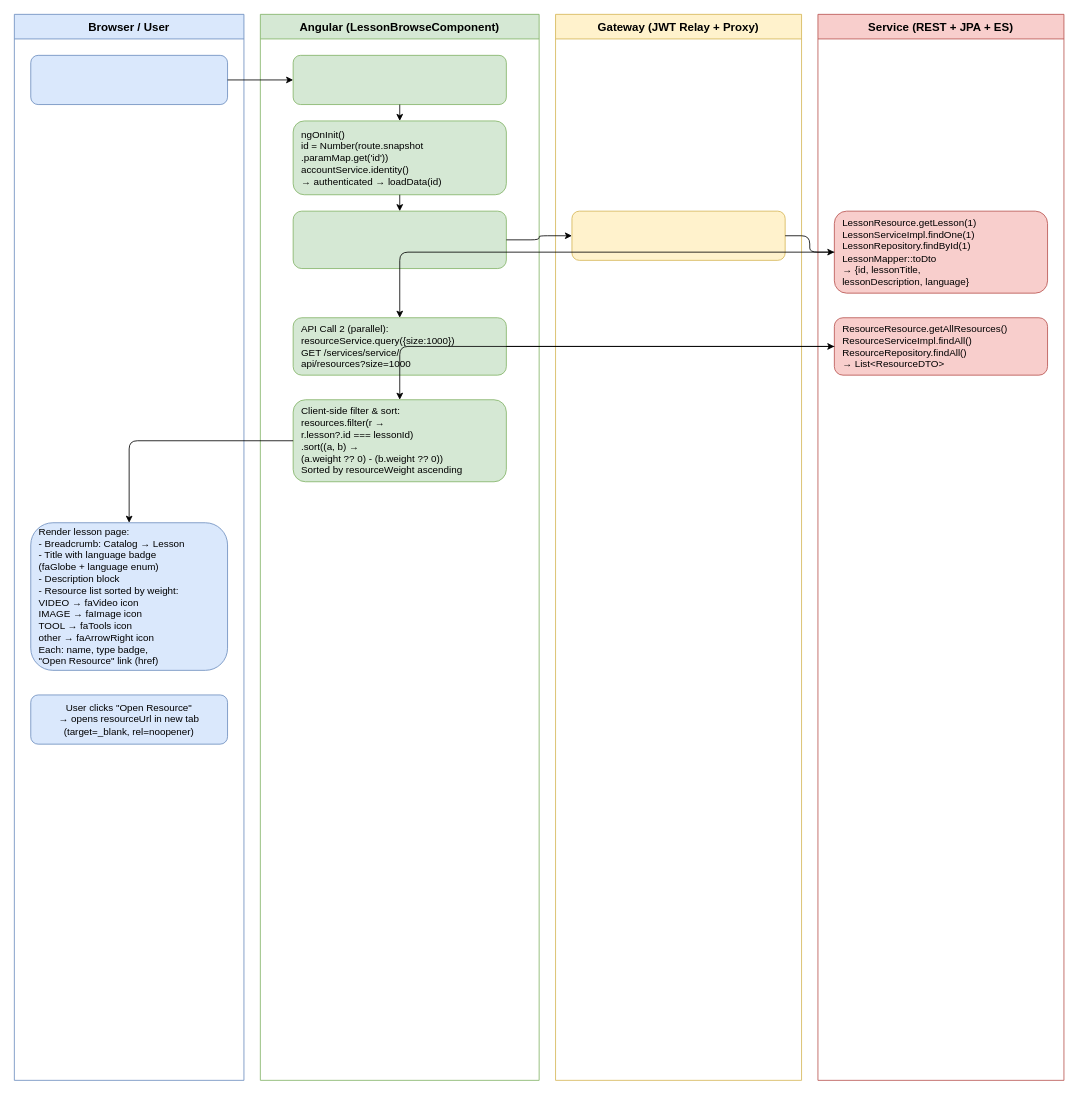
This 1078x1095 diagram has some shape labels left out. Here are the shapes that lost their labels. From the top down, the centre of each, then its label:
point (129, 80): User clicks lesson link from course page or curriculum → /catalog/lesson/1
point (399, 80): Router: browse.routes.ts path: 'lesson/:id' Lazy-loads LessonBrowseComponent
point (399, 239): API Call 1: lessonService.find(id) GET /services/service/ api/lessons/1
point (678, 235): JWT validated → relay StripPrefix=2 → /api/lessons/1
